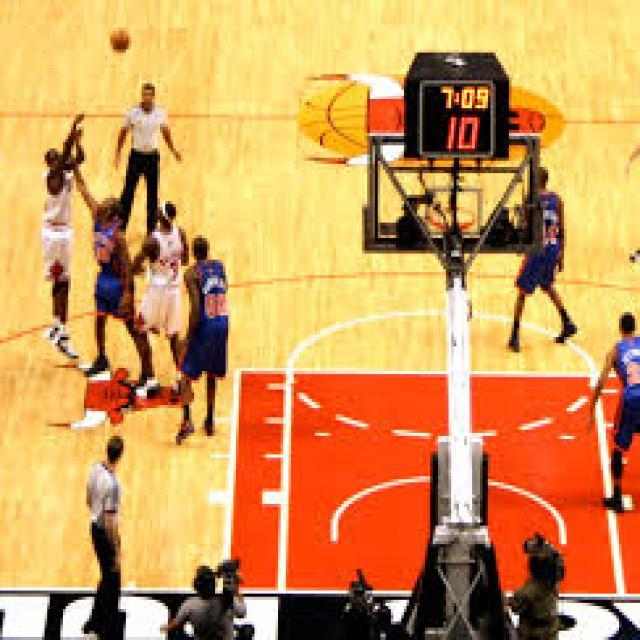rim: (110, 24, 131, 50)
